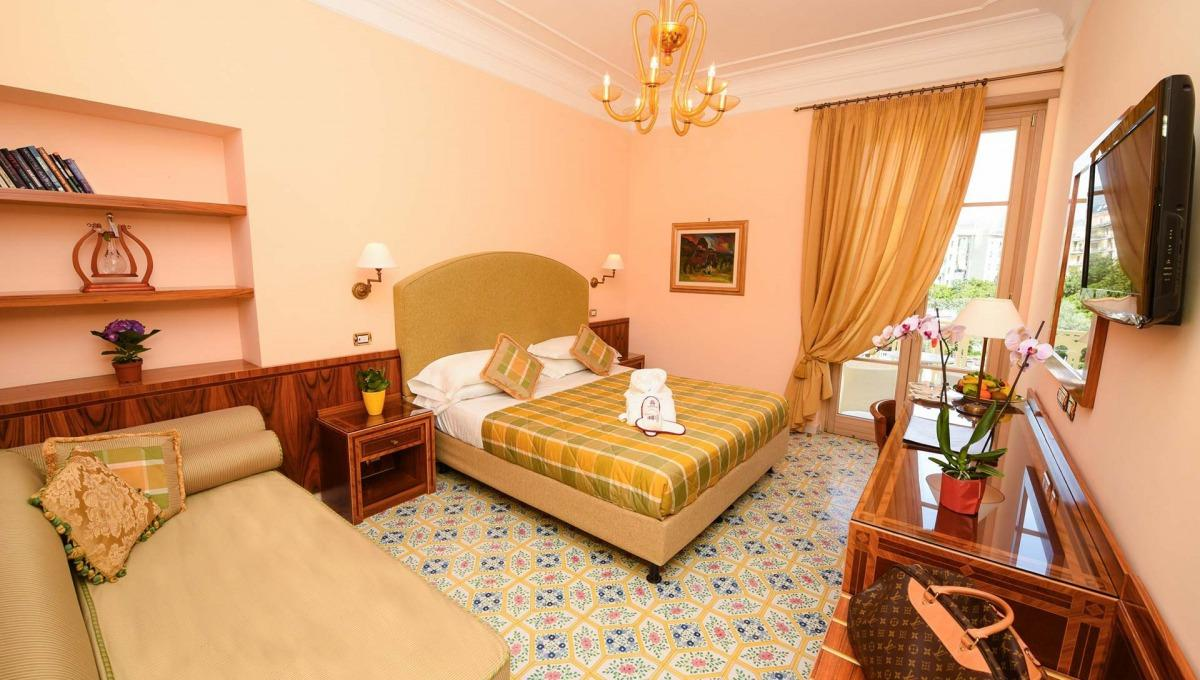bed: (370, 257, 763, 517)
